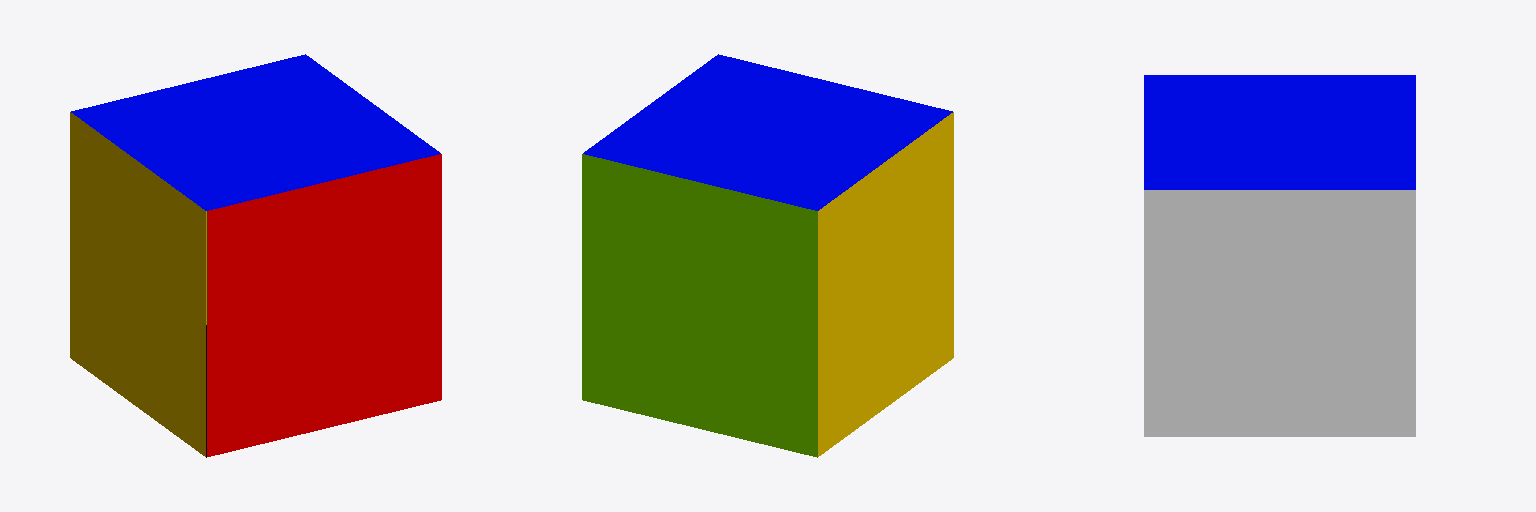
The picture shows the model from 3 angles: view 1: azimuth 30°, elevation 25°; view 2: azimuth 150°, elevation 25°; view 3: azimuth 270°, elevation 25°; orthographic projection.
Visible parts, largest first — view 1: Cube; view 2: Cube; view 3: Cube.
Part boxes in pixels (bbox=[...]): Cube: bbox=[70, 54, 441, 457]; Cube: bbox=[582, 54, 953, 457]; Cube: bbox=[1144, 75, 1415, 436].
Size of the model in its own units: 2 by 2 by 2.
Materials: 1 (1 with a texture image).